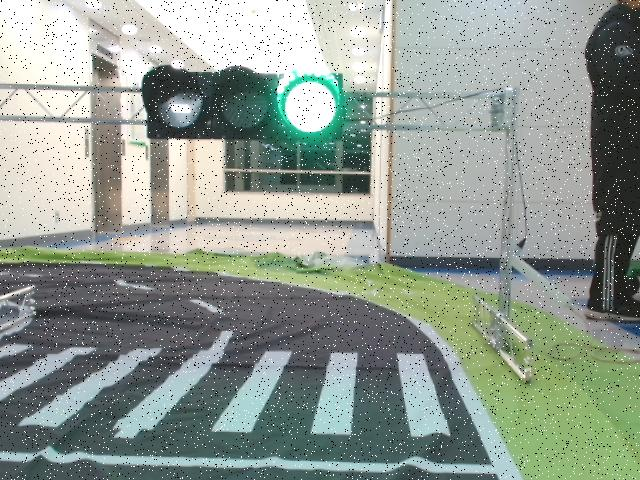crosswalk: (0, 342, 452, 437)
traffic light-green-: (142, 64, 348, 144)
